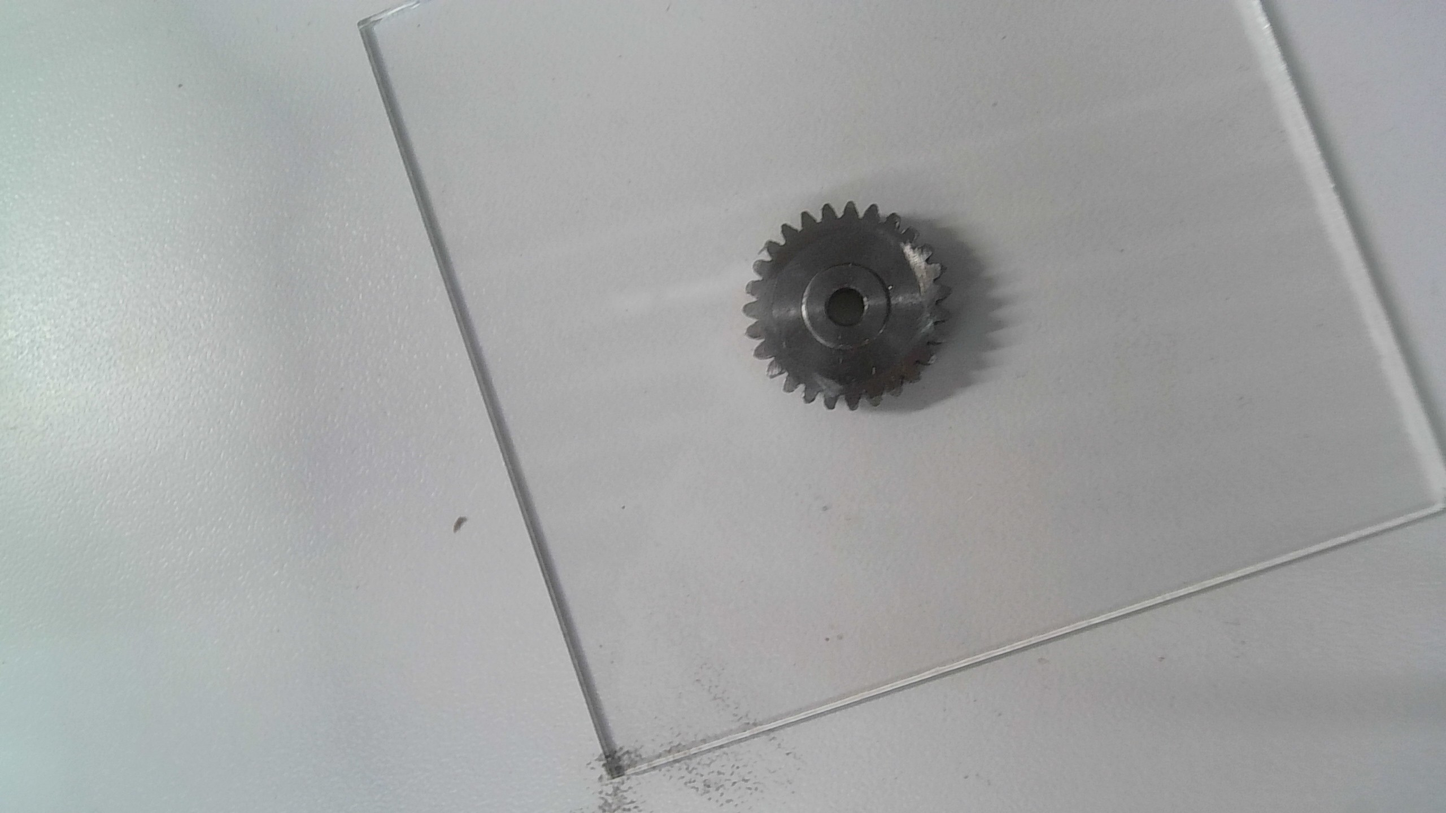gear: (744, 201, 950, 412)
